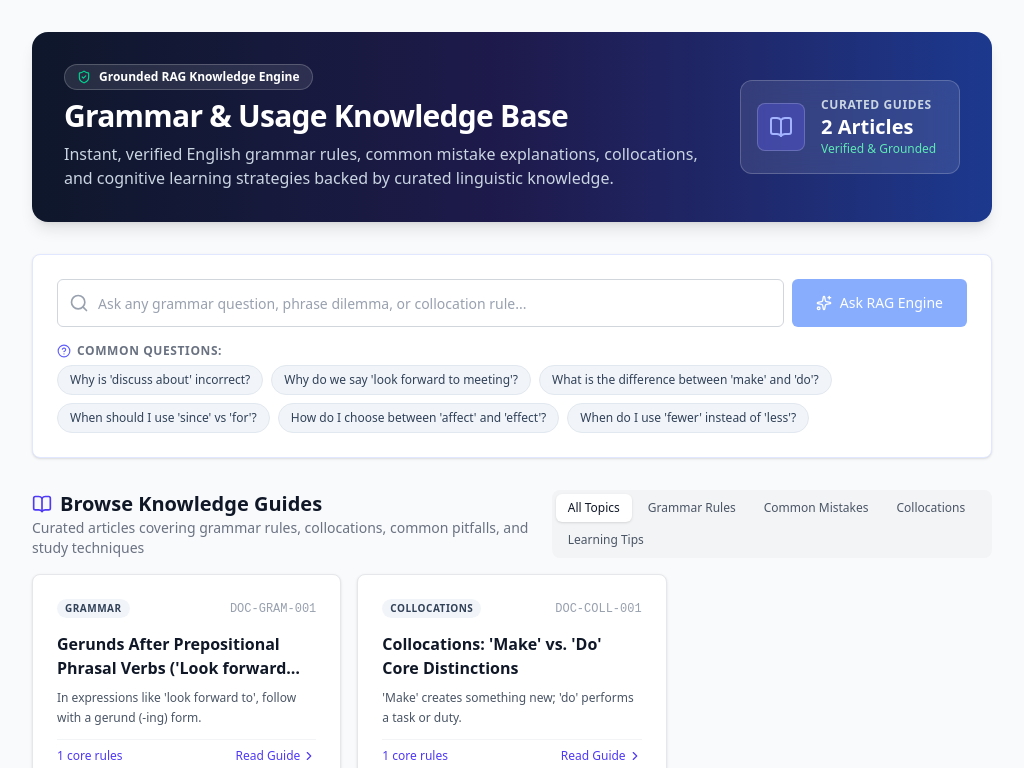
Test: KnowledgePage › submits query and displays structured grounded explanation with rules and sources
Type "Why is 'discuss about' incorrect?" into the field with placeholder "Ask any grammar question" at (420, 303), box [57, 279, 784, 327]
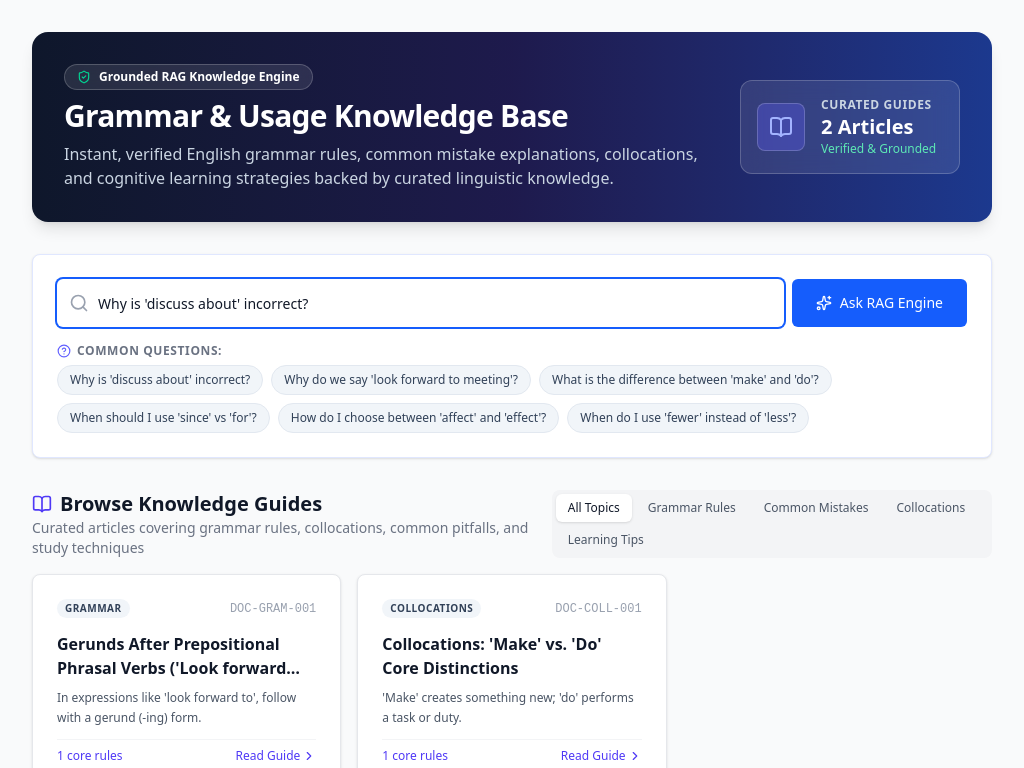
Click the button "Ask RAG Engine" at (879, 303), box [792, 279, 967, 327]
(page scrolled)
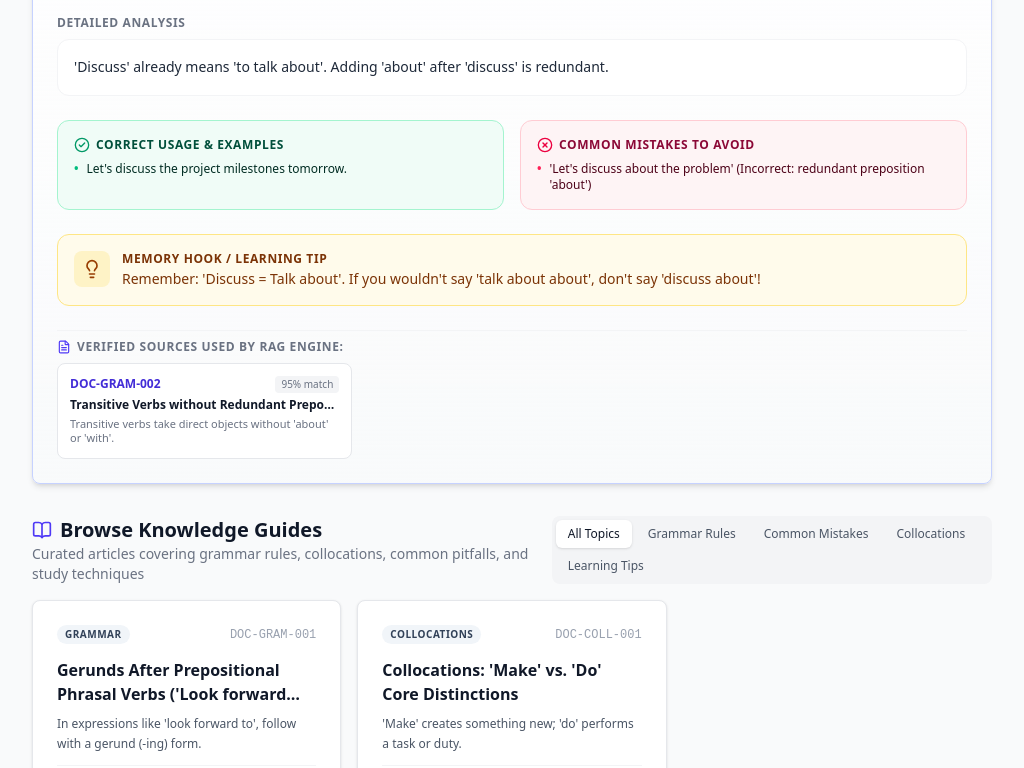
Expected: the heading "Correct Usage & Examples" is shown, [74, 136, 284, 152]
Expected: the heading "Common Mistakes to Avoid" is shown, [537, 136, 755, 152]
Expected: the text "Remember: 'Discuss = Talk about'" is shown, [122, 268, 761, 288]
